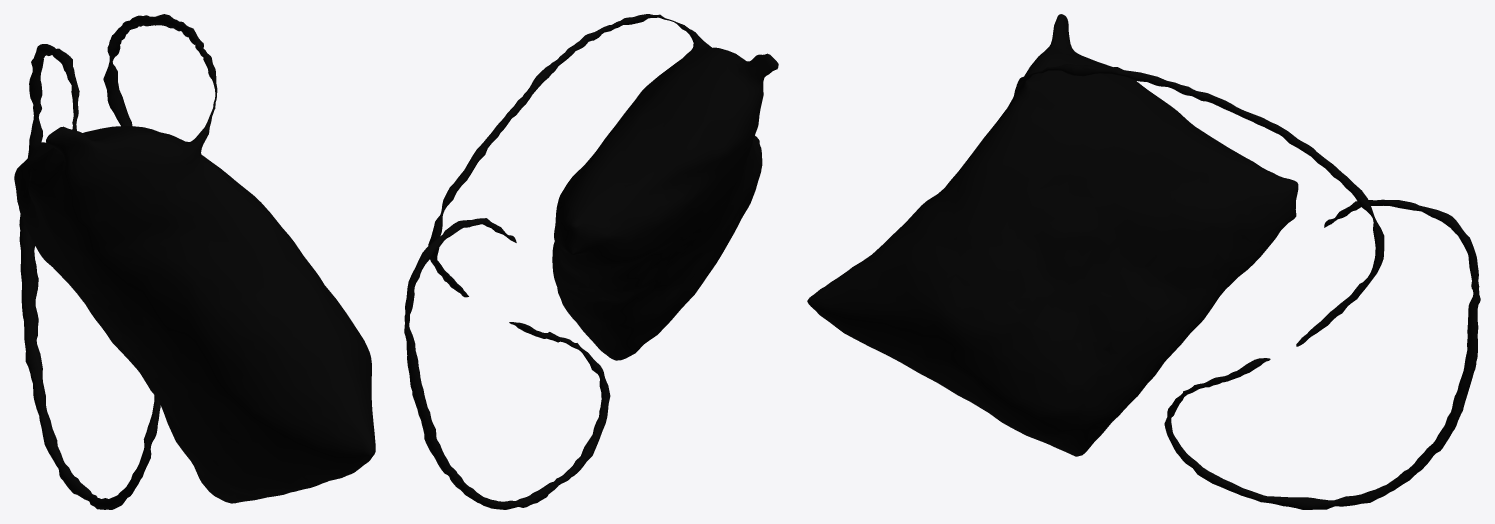
File: Bag.fbx
The picture shows the model from 3 angles, left to right: view 1: azimuth 30°, elevation 25°; view 2: azimuth 150°, elevation 25°; view 3: azimuth 270°, elevation 25°; orthographic projection. The views are drawn at different scales.
Visible parts, largest first — view 1: Bag; view 2: Bag; view 3: Bag.
Boxes of the visible parts, x1=… form: Bag: x1=14, y1=14, x2=375, y2=509; Bag: x1=404, y1=14, x2=778, y2=509; Bag: x1=807, y1=14, x2=1480, y2=509.
Bounding box in the file's own units: 35.19 × 64.71 × 88.11.
Materials: 1 (1 with a texture image).
